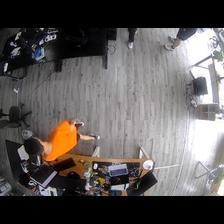normal: (26, 119, 100, 158)
